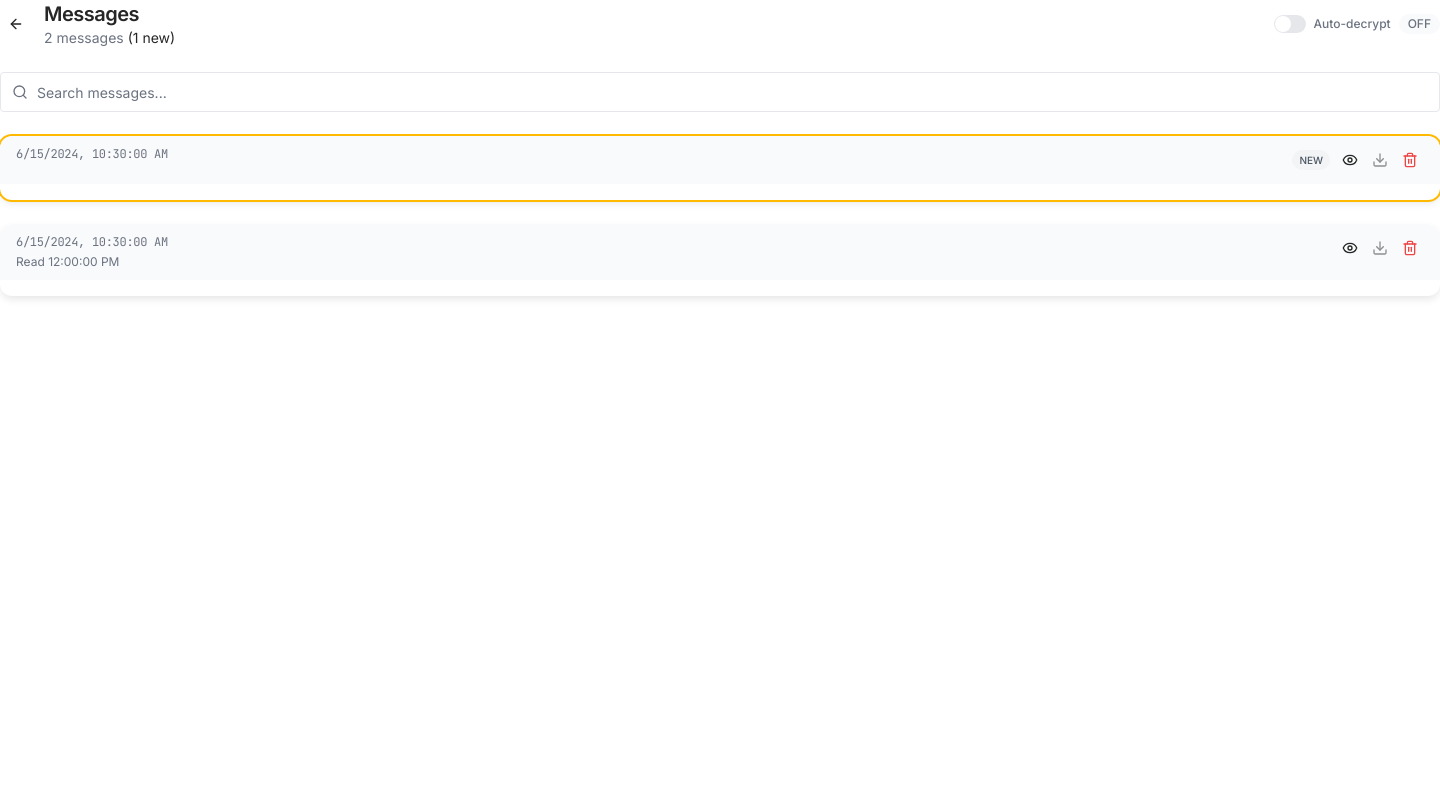
MessagesPage › closes delete dialog on cancel
Check: the text "2 messages" is shown, box [44,29,124,46]
Click the 1st button named "Delete message" at (1410, 160), box [1396,146,1424,174]
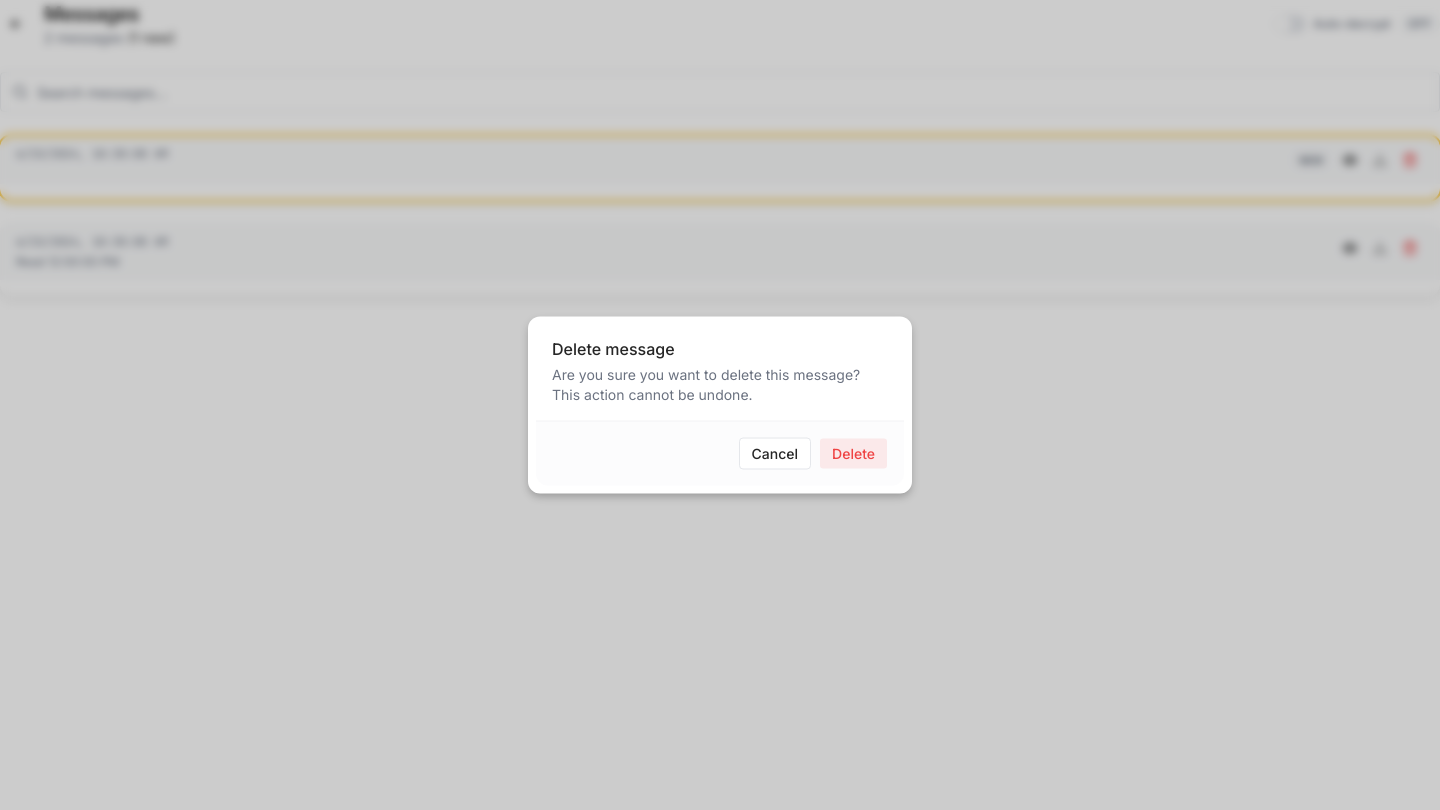
Check: the heading "Delete message" is shown, box [552,338,675,358]
Click the button "Cancel" at (775, 454), box [739,438,811,470]
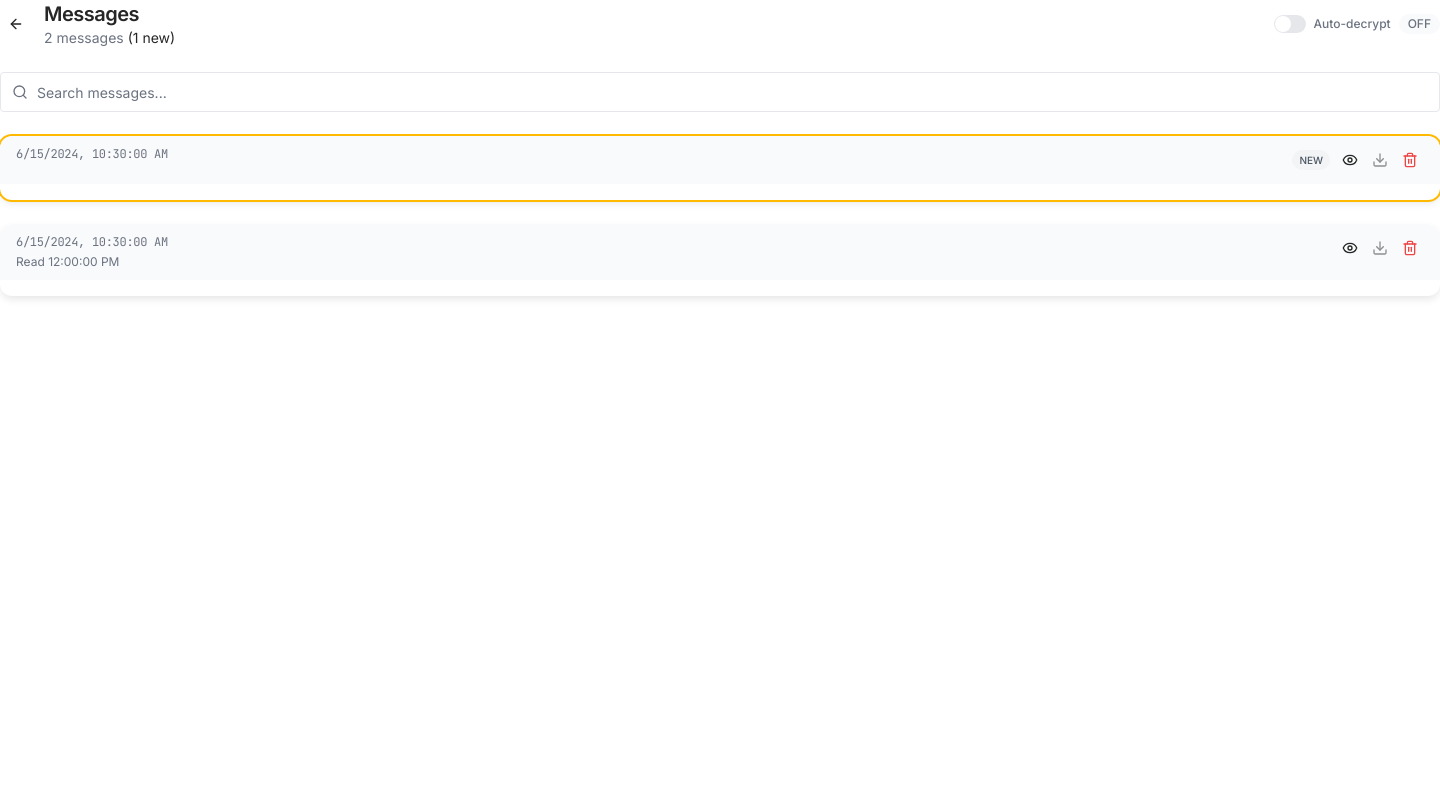
Check: the heading "Delete message" is gone
